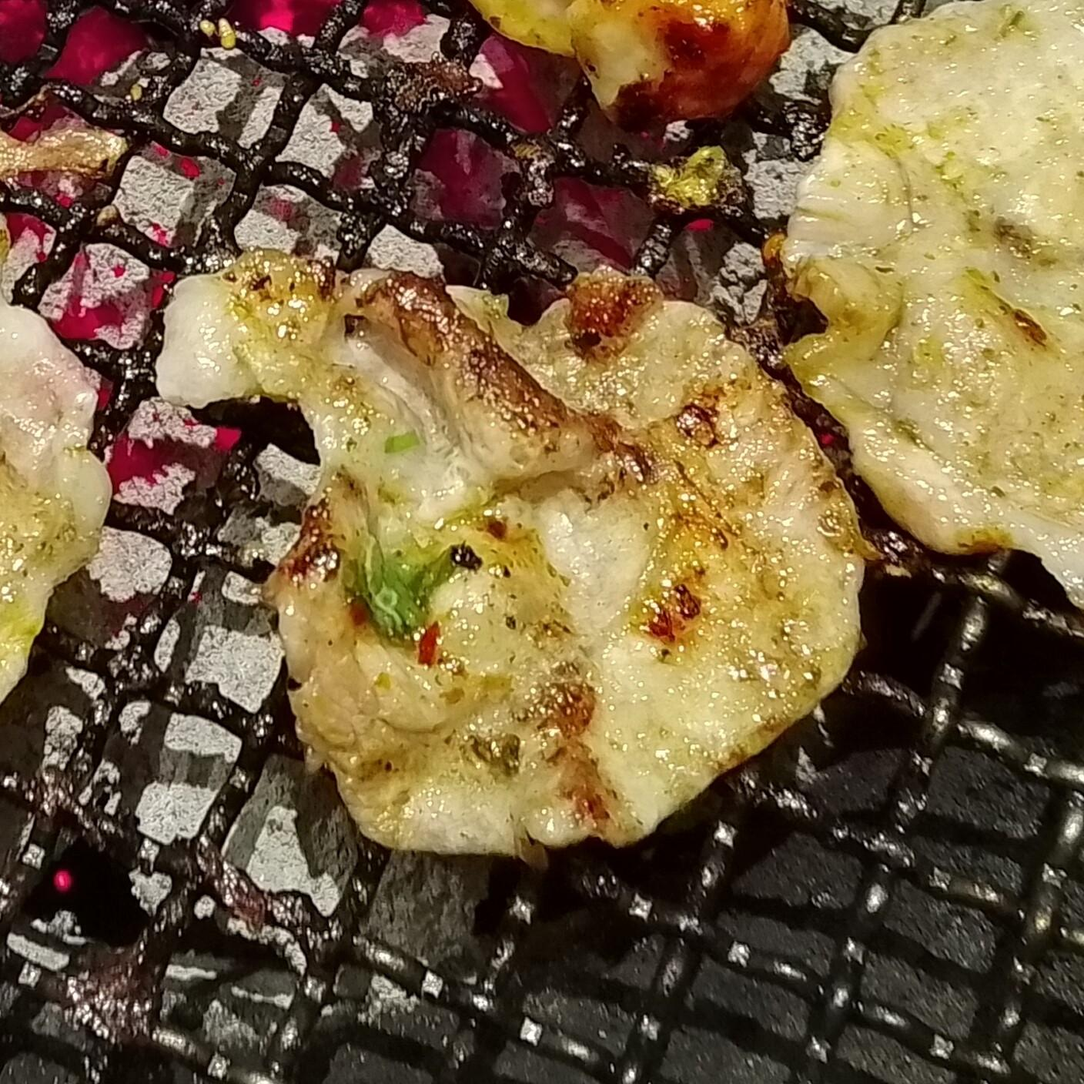Well-Cooked: (156, 249, 869, 862), (780, 0, 1083, 611), (0, 303, 112, 705)
